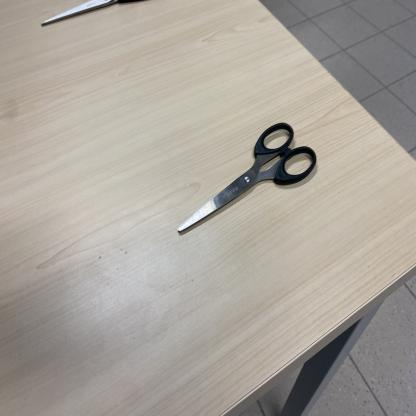scissors: (177, 122, 319, 234), (41, 0, 156, 29)
